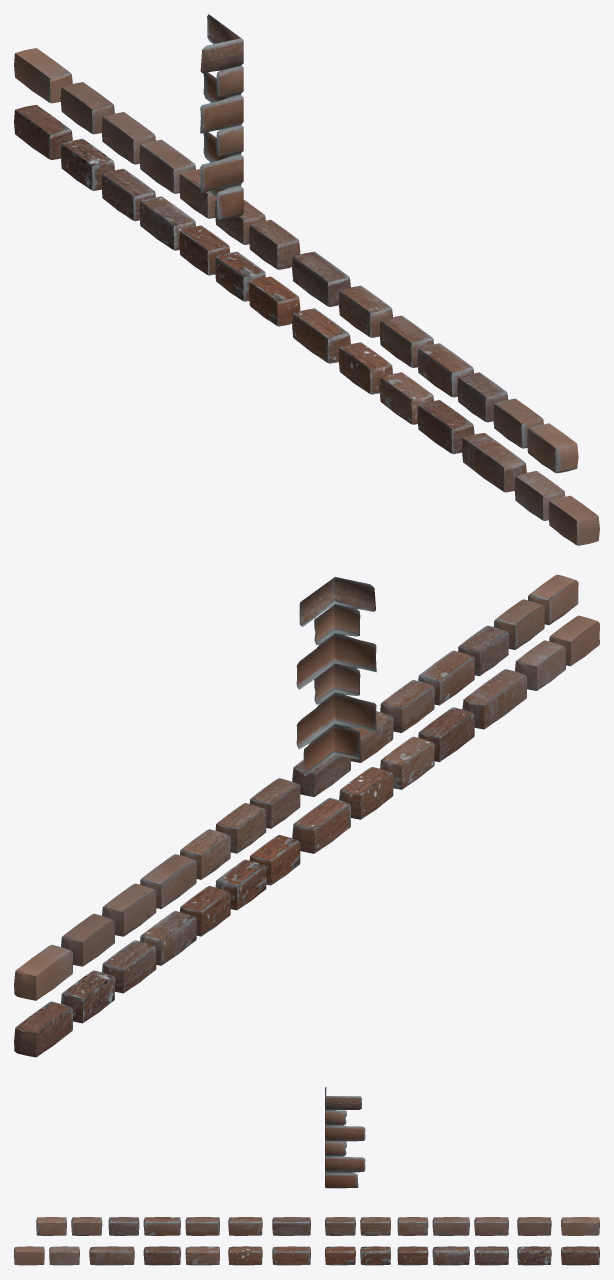
Rendered from Bricks.glb.
The picture shows the model from 3 angles, top to bottom: view 1: azimuth 30°, elevation 25°; view 2: azimuth 150°, elevation 25°; view 3: azimuth 270°, elevation 25°; orthographic projection. The views are drawn at different scales.
Visible parts, largest first — view 1: BrickCorner, Brick.024, Brick.014, Brick.021, Brick.028, Brick.007, Brick.025, Brick.015, Brick.022, Brick.004, Brick.018, Brick.011 (+17 smaller); view 2: BrickCorner, Brick.024, Brick.014, Brick.007, Brick.028, Brick.027, Brick.013, Brick.006, Brick.005, Brick.004, Brick.012, Brick.025 (+17 smaller); view 3: BrickCorner, Brick.024, Brick.014, Brick.028, Brick.007, Brick.021, Brick.011, Brick.025, Brick.004, Brick.018, Brick.012, Brick.026 (+17 smaller).
Boxes of the visible parts, bbox=[...] form: BrickCorner: bbox=[200, 14, 243, 221]; Brick.024: bbox=[462, 433, 526, 492]; Brick.014: bbox=[14, 104, 72, 159]; Brick.021: bbox=[292, 251, 350, 306]; Brick.028: bbox=[292, 308, 350, 363]; Brick.007: bbox=[14, 48, 72, 103]; Brick.025: bbox=[417, 400, 474, 454]; Brick.015: bbox=[527, 423, 578, 473]; Brick.022: bbox=[548, 495, 599, 545]; Brick.004: bbox=[139, 139, 195, 193]; Brick.018: bbox=[417, 343, 473, 397]; Brick.011: bbox=[139, 196, 195, 250]; BrickCorner: bbox=[296, 577, 376, 775]; Brick.024: bbox=[462, 669, 526, 729]; Brick.014: bbox=[14, 1001, 72, 1057]; Brick.007: bbox=[14, 944, 72, 1000]; Brick.028: bbox=[292, 798, 350, 853]; Brick.027: bbox=[339, 767, 393, 819]; Brick.013: bbox=[61, 970, 115, 1023]; Brick.006: bbox=[61, 913, 115, 966]; Brick.005: bbox=[102, 883, 156, 936]; Brick.004: bbox=[140, 854, 196, 908]; Brick.012: bbox=[102, 940, 156, 993]; Brick.025: bbox=[418, 707, 474, 761]; BrickCorner: bbox=[325, 1087, 365, 1188]; Brick.024: bbox=[89, 1246, 134, 1265]; Brick.014: bbox=[561, 1246, 599, 1265]; Brick.028: bbox=[272, 1246, 310, 1265]; Brick.007: bbox=[561, 1217, 599, 1235]; Brick.021: bbox=[272, 1217, 310, 1235]; Brick.011: bbox=[432, 1246, 469, 1265]; Brick.025: bbox=[143, 1246, 180, 1265]; Brick.004: bbox=[432, 1217, 469, 1235]; Brick.018: bbox=[143, 1217, 180, 1235]; Brick.012: bbox=[474, 1246, 508, 1265]; Brick.026: bbox=[185, 1246, 219, 1265].
Size of the model in its own units: 0.5834 by 1.66 by 5.69.
1 material, 1 textured.
